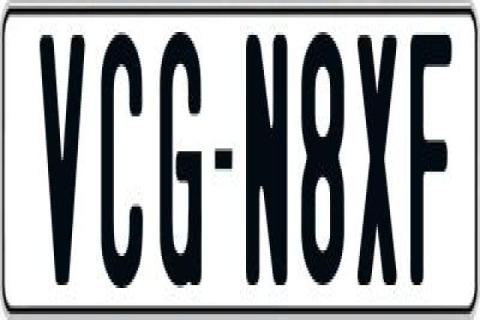0: (301, 29, 348, 294)
C: (98, 29, 140, 288)
F: (410, 29, 451, 291)
G: (158, 29, 204, 288)
N: (245, 35, 287, 303)
V: (36, 35, 82, 294)
X: (356, 32, 400, 300)
